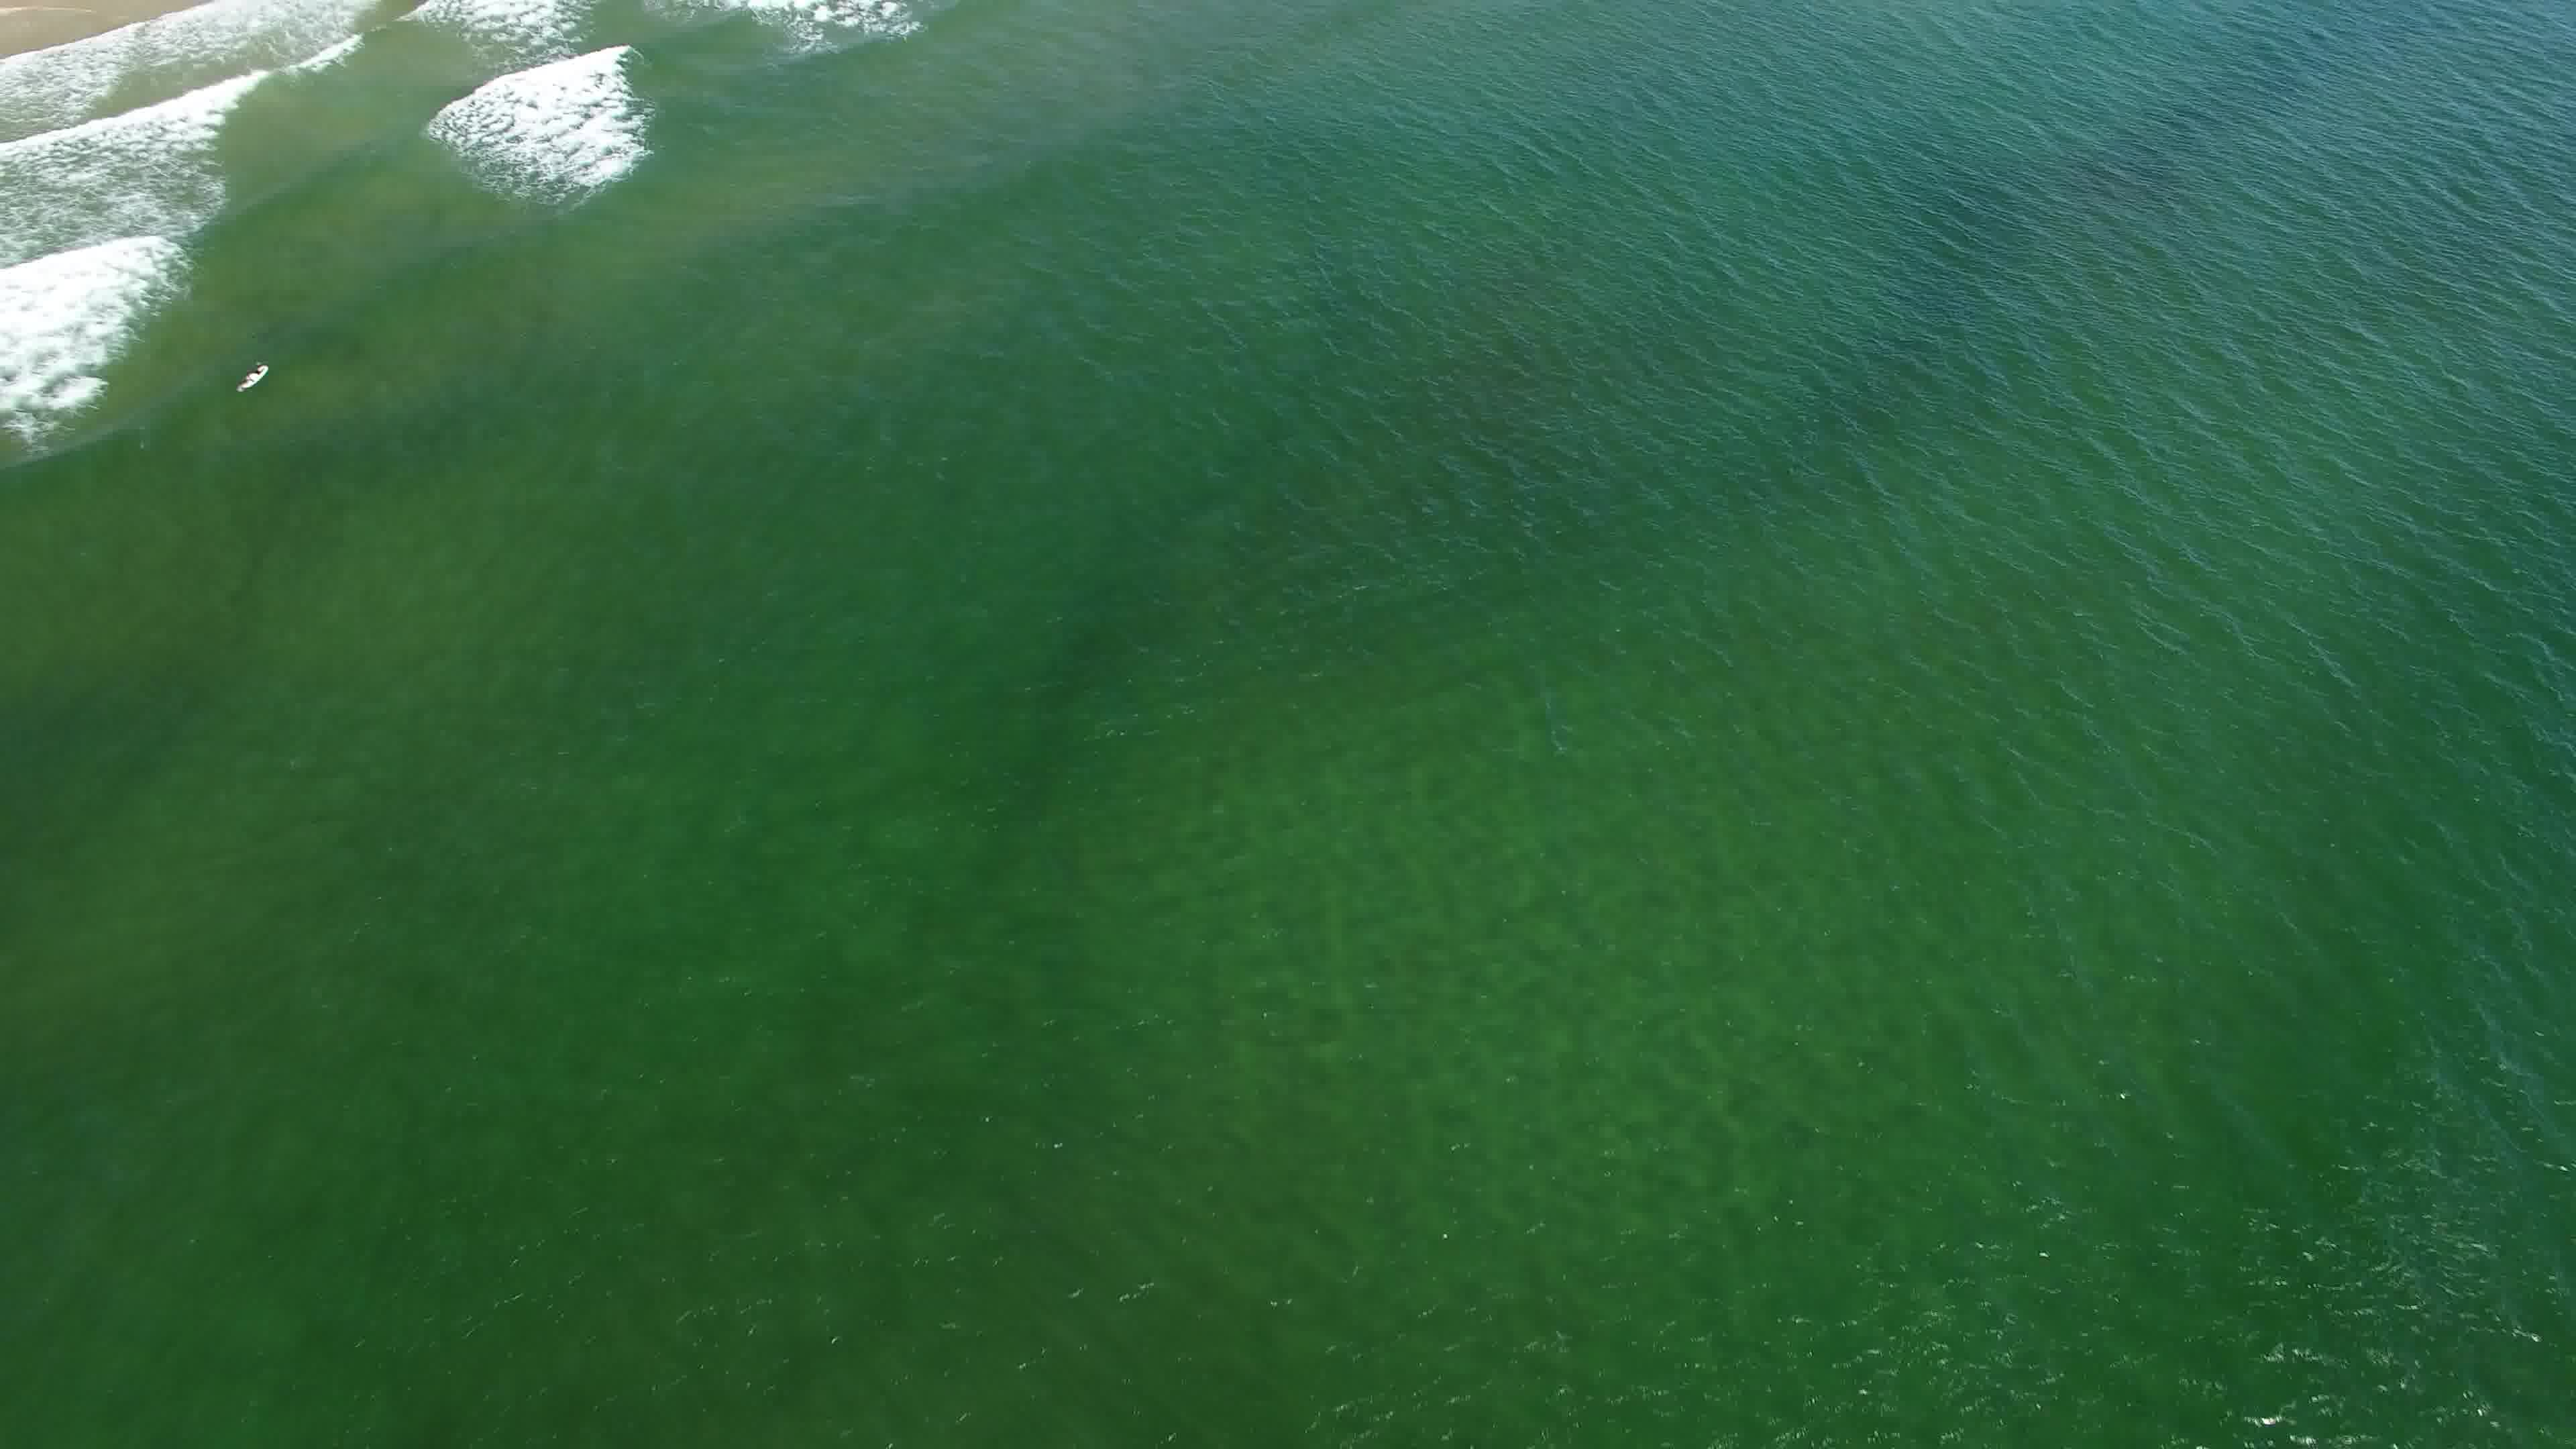surfer: (228, 359, 276, 396)
